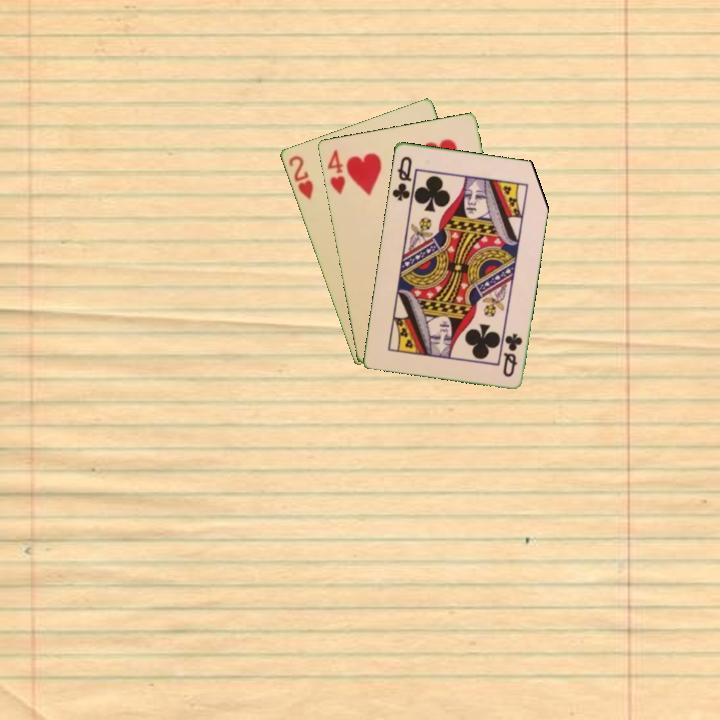2h: (285, 152, 316, 202)
4h: (323, 146, 348, 197)
Qc: (388, 152, 414, 203), (499, 329, 525, 380)
